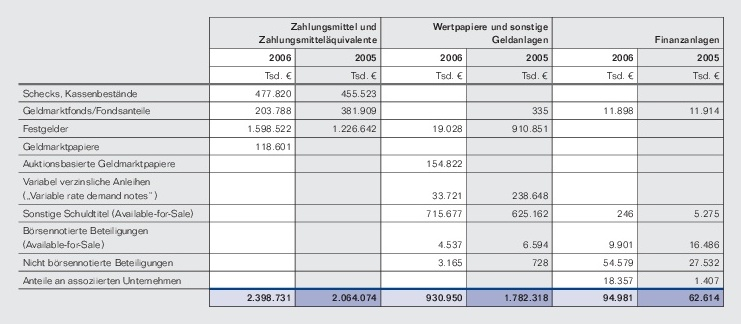table: (0, 0, 741, 324)
